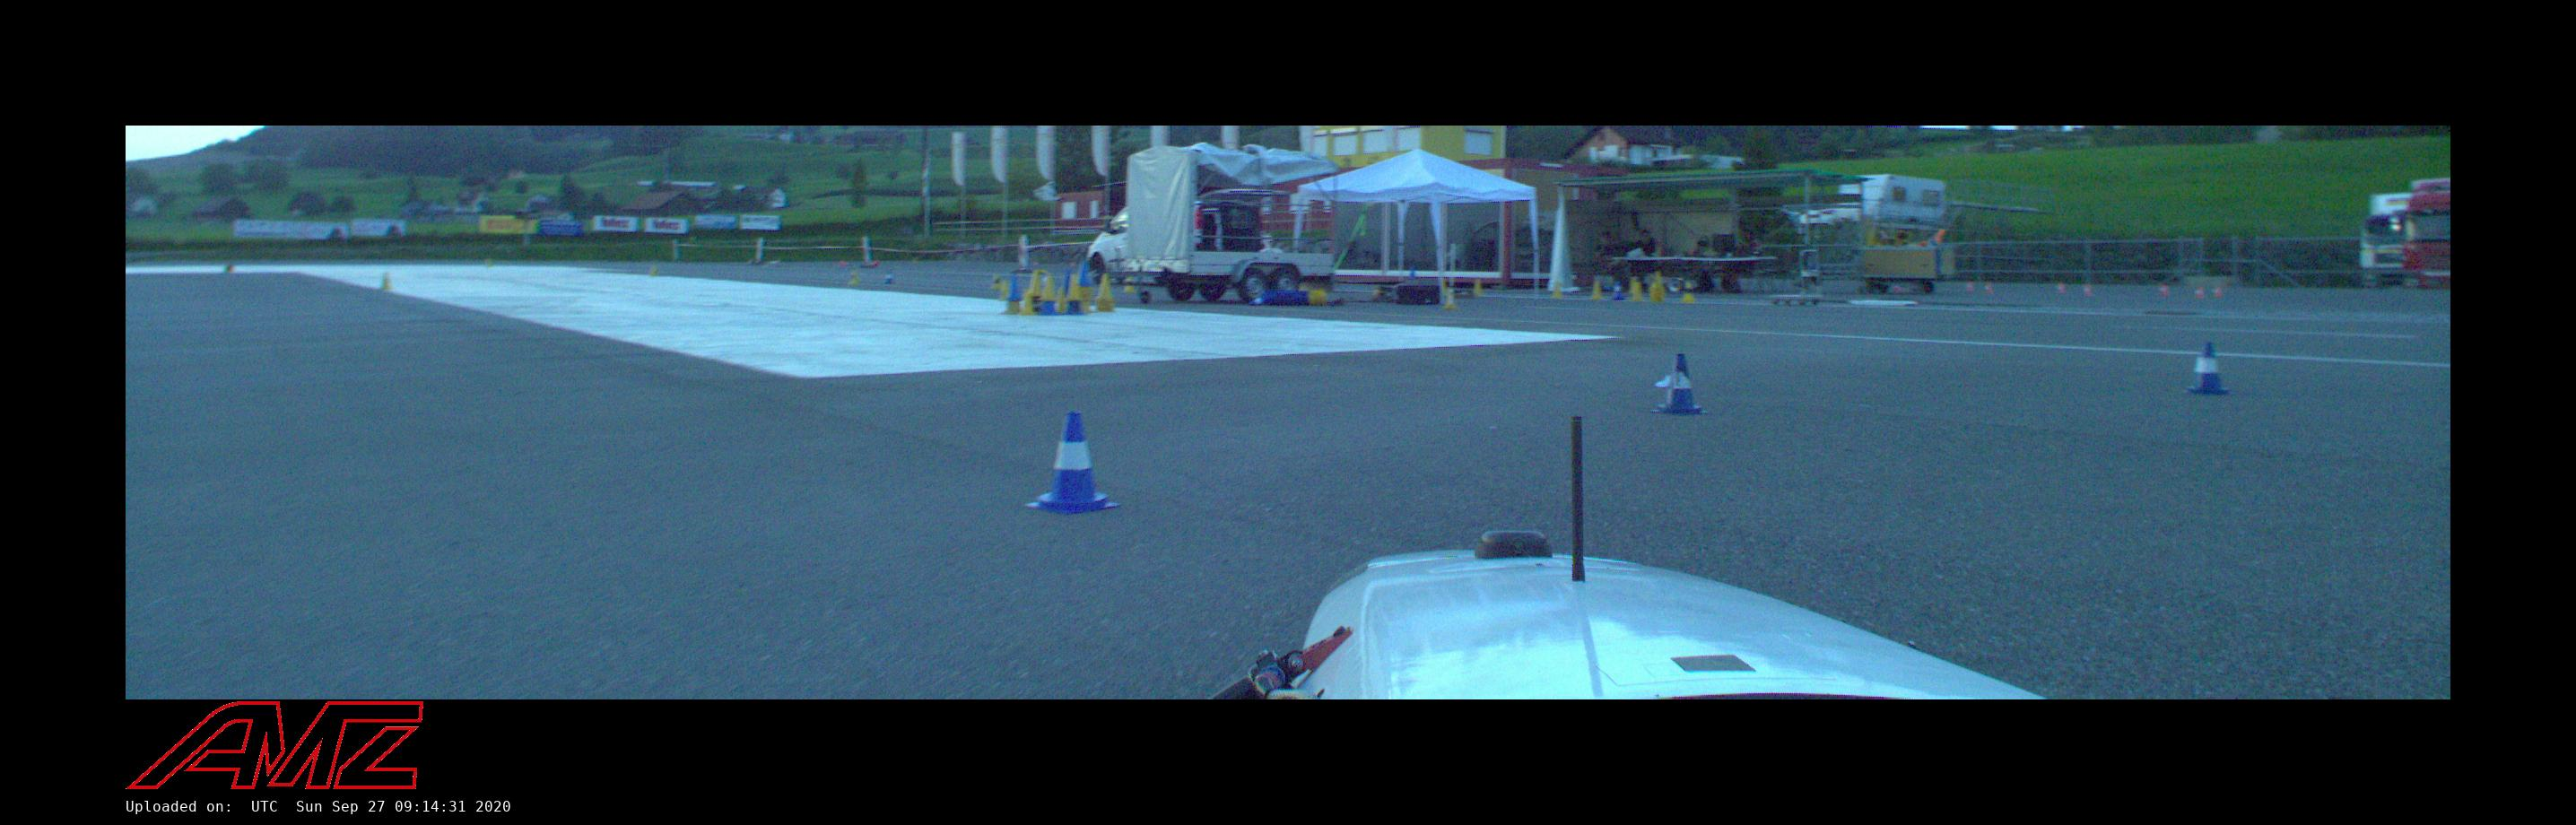blue_cone: (1025, 412, 1121, 514), (1650, 353, 1709, 414), (2183, 342, 2230, 395)
